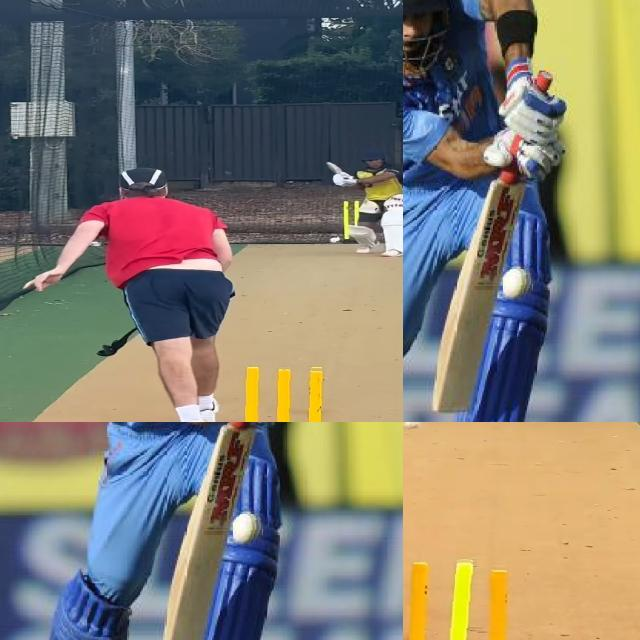Cricket ball: (503, 262, 535, 307), (233, 507, 265, 552), (403, 422, 423, 430), (329, 237, 343, 244)
Stumps: (403, 557, 526, 640), (233, 364, 342, 422)
